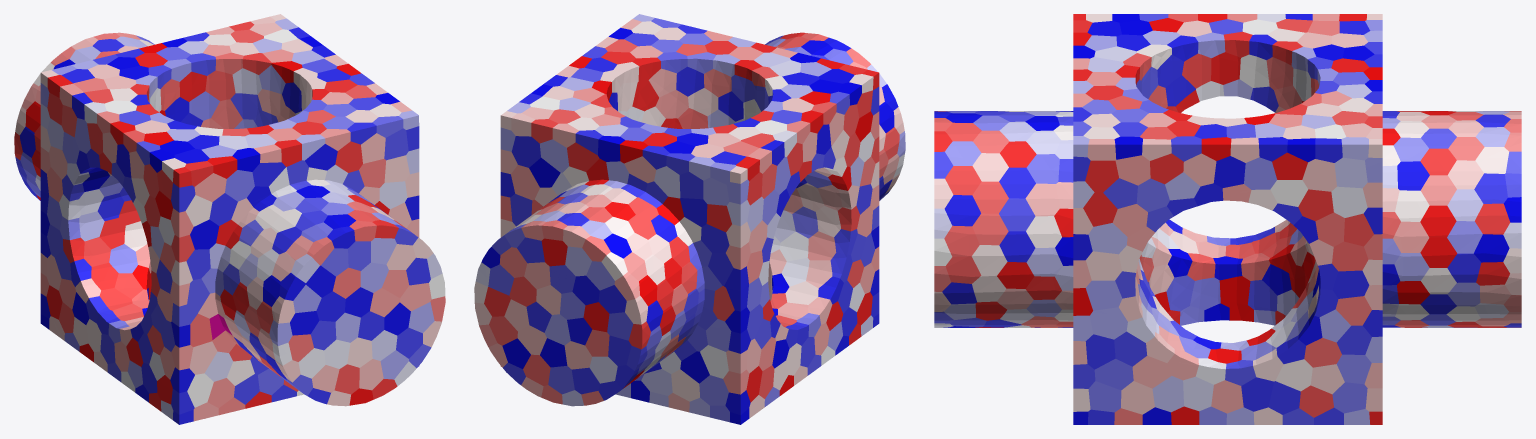
The model's file is Ours_1000_block_Iter38_RVD.obj.
The picture shows the model from 3 angles, left to right: view 1: azimuth 30°, elevation 25°; view 2: azimuth 150°, elevation 25°; view 3: azimuth 270°, elevation 25°; orthographic projection. The views are drawn at different scales.
Visible parts, largest first — view 1: 3D_Object; view 2: 3D_Object; view 3: 3D_Object.
Boxes of the visible parts, box(x1,y1,x2,y2) form: 3D_Object: box(14, 14, 445, 424); 3D_Object: box(474, 14, 905, 424); 3D_Object: box(934, 14, 1521, 424).
Size of the model in its own units: 20 by 20 by 38.
Materials: 1 (1 with a texture image).
